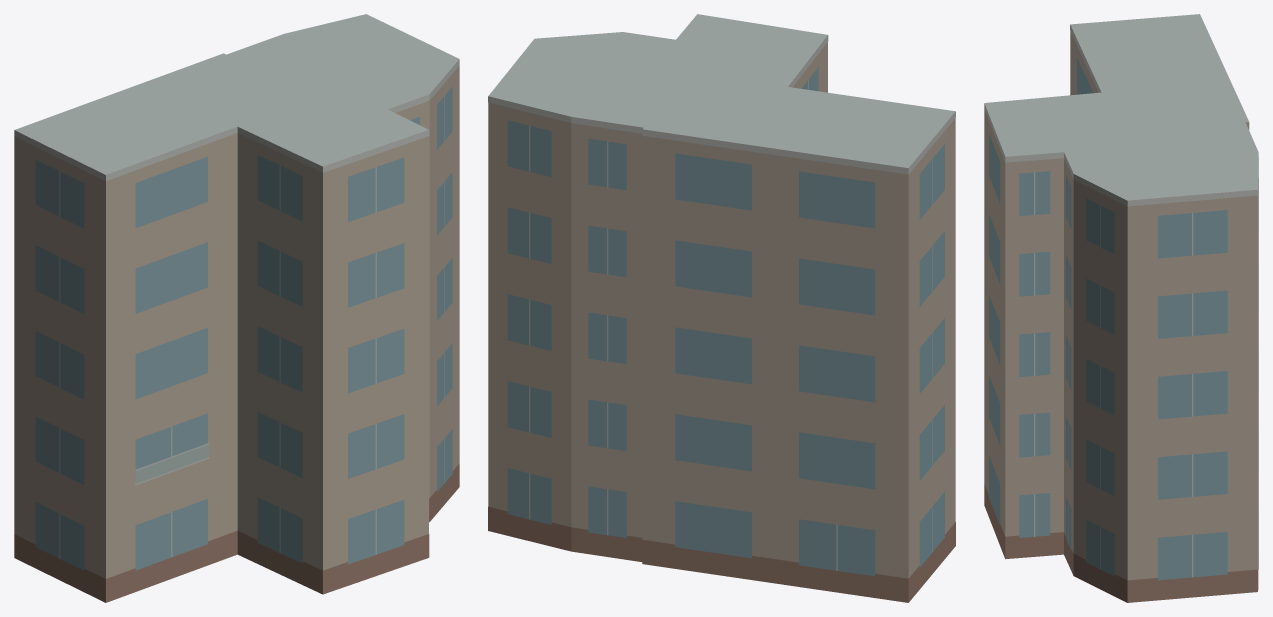
File: survey-upis-32498959.glb
3 views of the same model, side by side, from view 1: azimuth 30°, elevation 25°; view 2: azimuth 150°, elevation 25°; view 3: azimuth 270°, elevation 25° (orthographic). The views are drawn at different scales.
Visible parts, largest first — view 1: survey-upis-32498959.tmp; view 2: survey-upis-32498959.tmp; view 3: survey-upis-32498959.tmp.
Boxes of the visible parts, x1,y1,x2,y2 form: survey-upis-32498959.tmp: (14, 14, 459, 602); survey-upis-32498959.tmp: (488, 14, 955, 602); survey-upis-32498959.tmp: (984, 14, 1258, 602).
Bounding box in the file's own units: 16.58 × 16.65 × 10.3.
